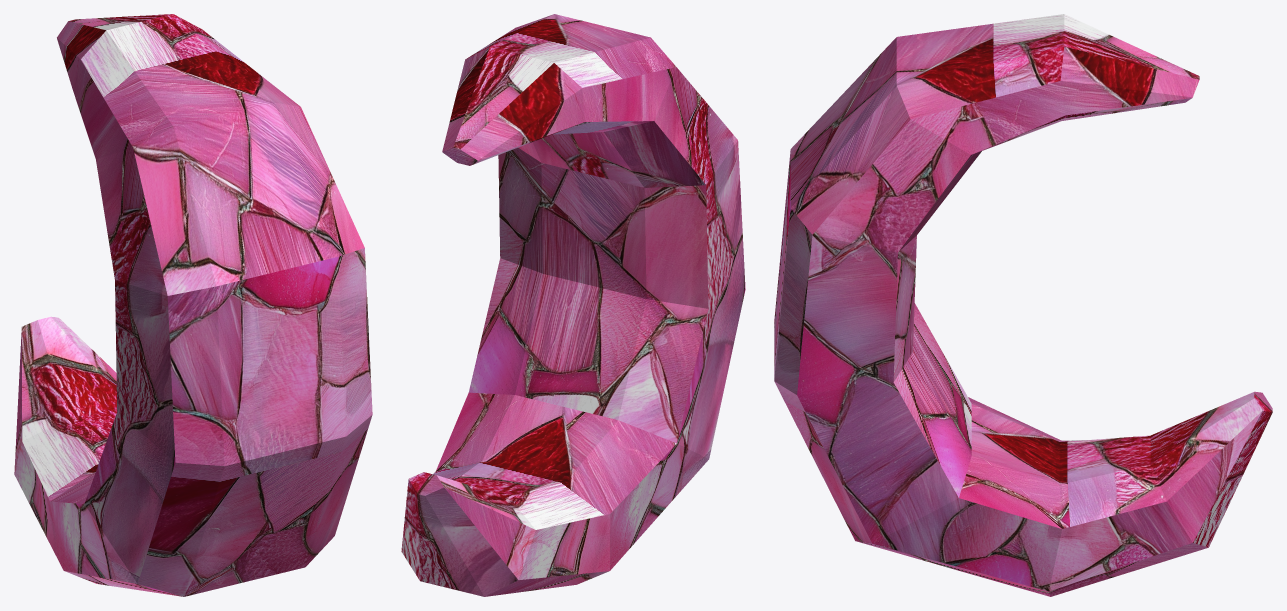
Rendered from gemstone9Pink.glb.
The picture shows the model from 3 angles, left to right: view 1: azimuth 30°, elevation 25°; view 2: azimuth 150°, elevation 25°; view 3: azimuth 270°, elevation 25°; orthographic projection. The views are drawn at different scales.
Parts seen in each view (by area): view 1: gemstoneMoon; view 2: gemstoneMoon; view 3: gemstoneMoon.
Part boxes in pixels (bbox=[...]): gemstoneMoon: bbox=[14, 14, 372, 596]; gemstoneMoon: bbox=[401, 14, 745, 596]; gemstoneMoon: bbox=[774, 14, 1272, 596].
Size of the model in its own units: 0.5 by 1.2 by 1.
Materials: 1 (1 with a texture image).
